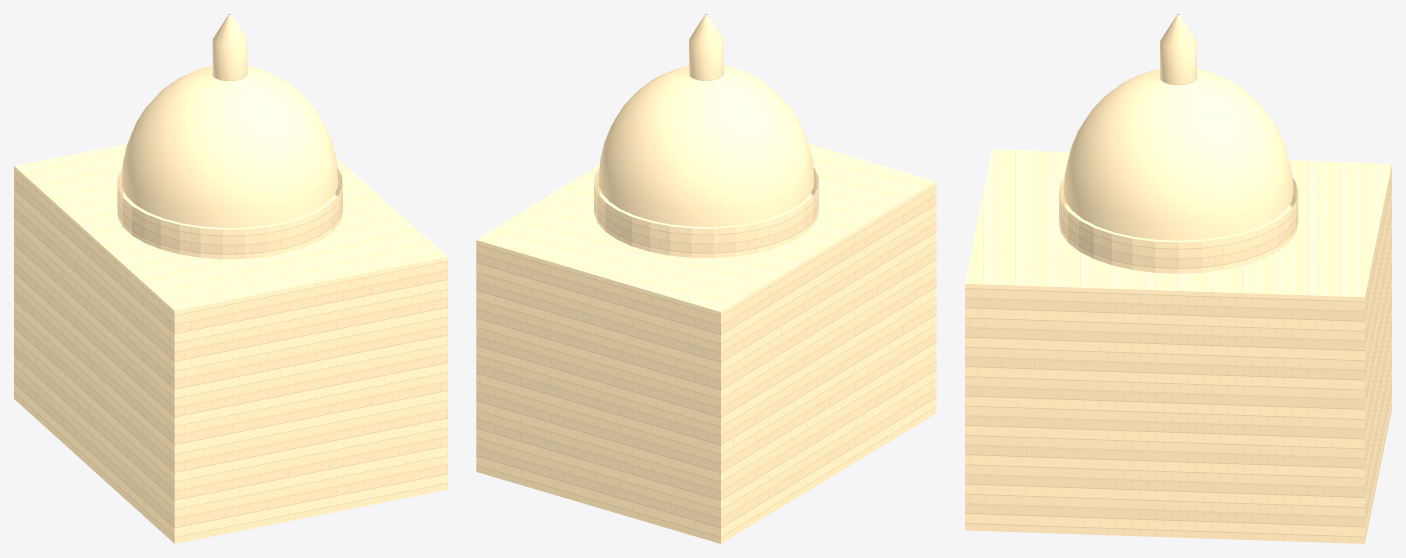
The model's file is landmark-seyid-murtuza-mosque.glb.
3 renders of one model, left to right at view 1: azimuth 30°, elevation 25°; view 2: azimuth 150°, elevation 25°; view 3: azimuth 270°, elevation 25°, orthographic. The views are drawn at different scales.
Visible parts, largest first — view 1: seyid-murtuza-mosque; view 2: seyid-murtuza-mosque; view 3: seyid-murtuza-mosque.
Boxes of the visible parts, box(x1,y1,x2,y2) form: seyid-murtuza-mosque: box(14, 14, 447, 543); seyid-murtuza-mosque: box(476, 14, 936, 543); seyid-murtuza-mosque: box(965, 14, 1391, 543).
Bounding box in the file's own units: 12.98 × 18.61 × 15.81.
2 materials, 1 textured.
